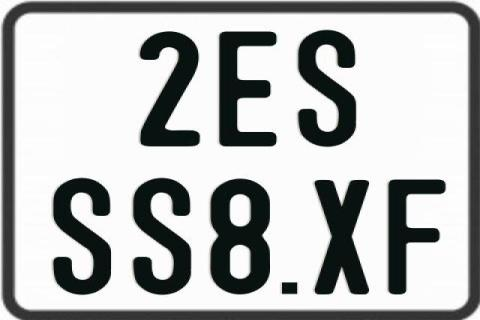0: (140, 31, 202, 150), (210, 178, 272, 296)
E: (218, 31, 278, 150)
F: (388, 180, 447, 296)
S: (296, 30, 359, 148), (53, 178, 111, 300), (133, 178, 192, 296)
X: (313, 179, 371, 293)
